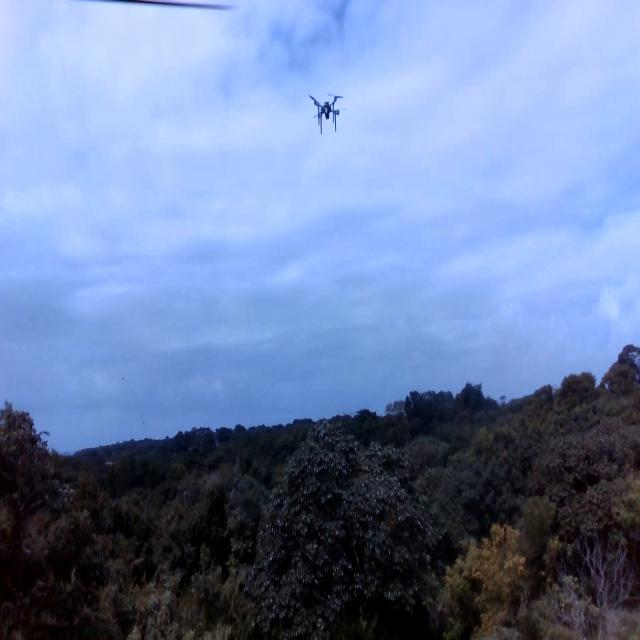-uav-: (305, 80, 353, 150)
